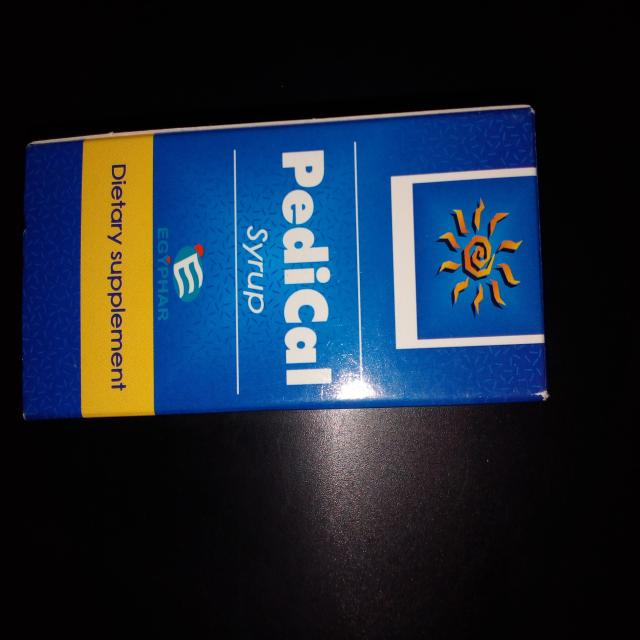Medicine: (19, 99, 550, 430)
